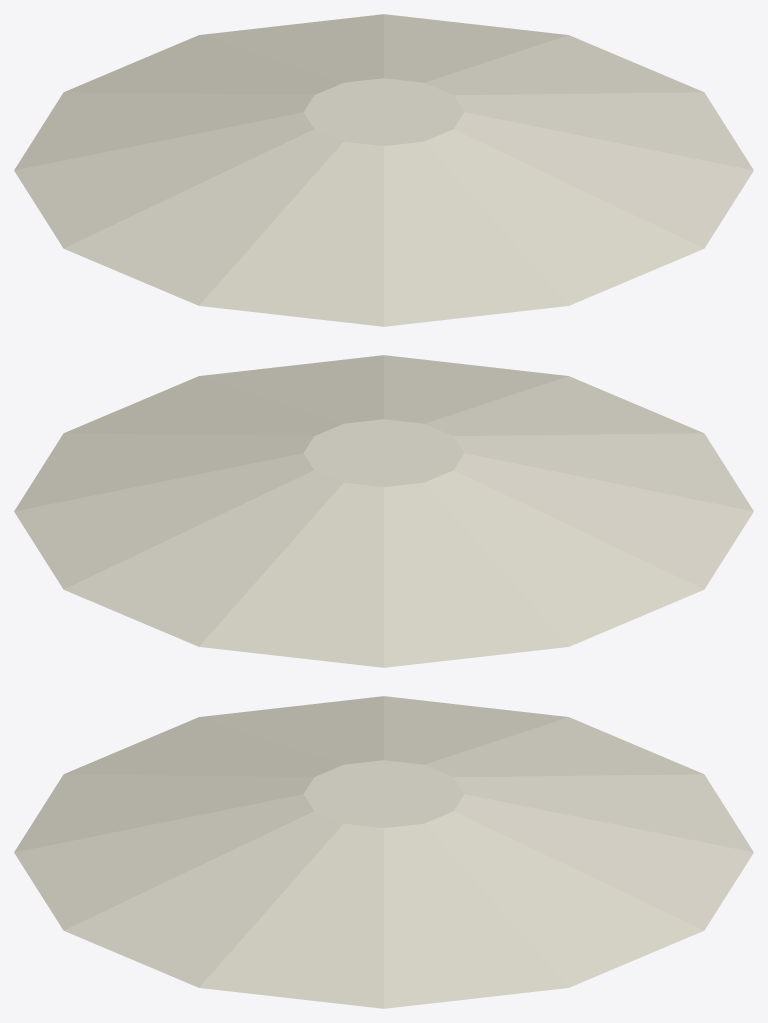
Rendered from blender_salt_2_deployed.glb.
The picture shows the model from 3 angles, top to bottom: view 1: azimuth 30°, elevation 25°; view 2: azimuth 150°, elevation 25°; view 3: azimuth 270°, elevation 25°; orthographic projection.
Parts seen in each view (by area): view 1: blender_salt_2_deployed; view 2: blender_salt_2_deployed; view 3: blender_salt_2_deployed.
Boxes of the visible parts, left/top/right/bottom form: blender_salt_2_deployed: left=14, top=14, right=753, bottom=326; blender_salt_2_deployed: left=14, top=355, right=753, bottom=667; blender_salt_2_deployed: left=14, top=696, right=753, bottom=1008.
Bounding box in the file's own units: 0.23 × 0.02 × 0.23.
1 material, 1 textured.
